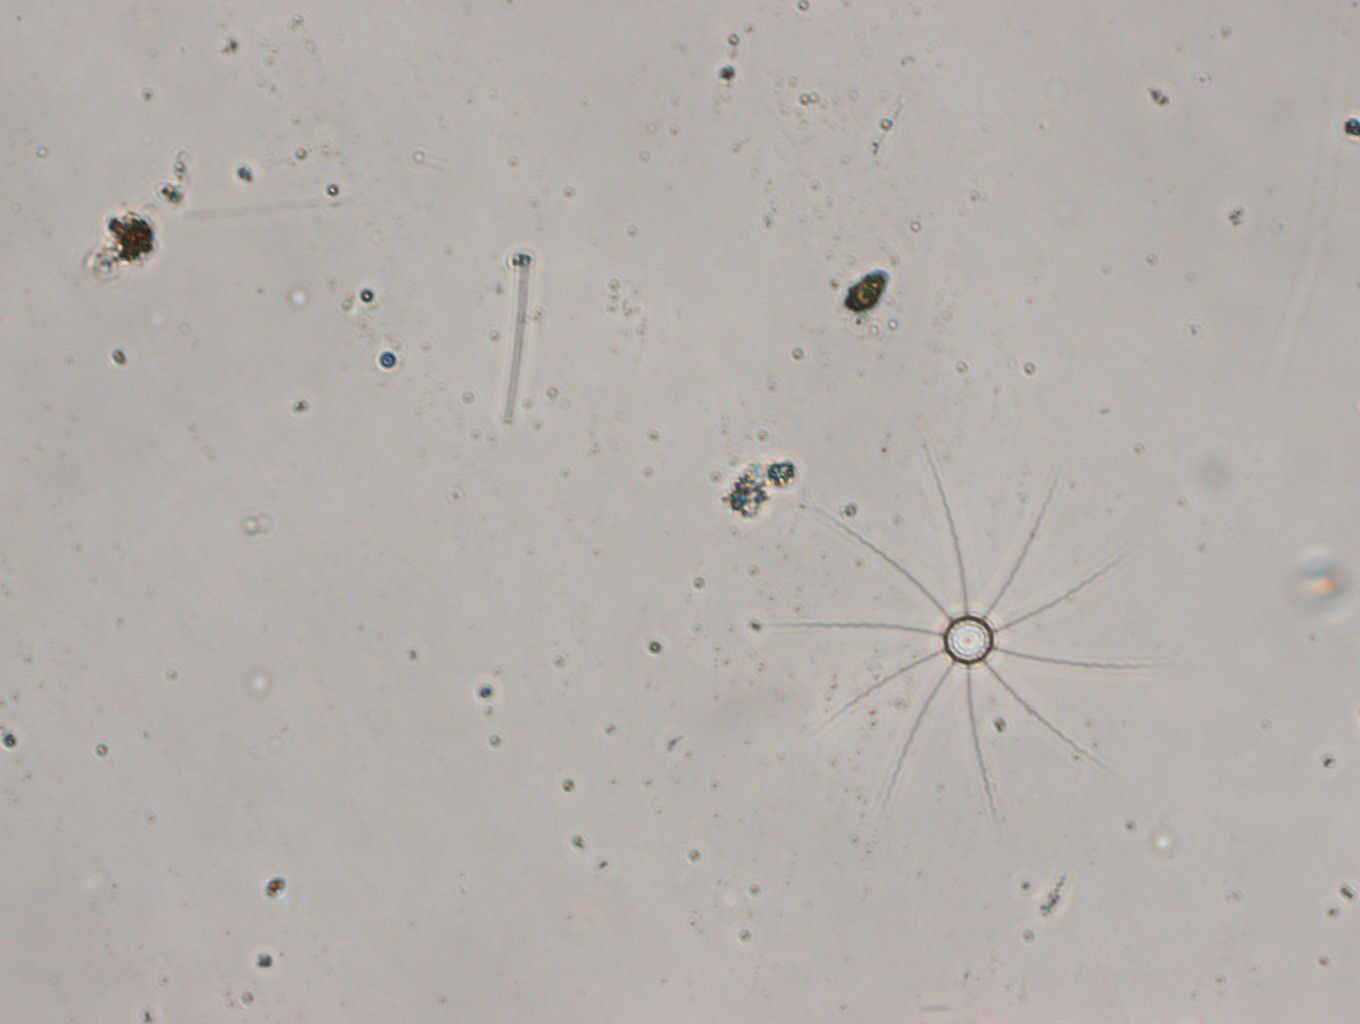bacteriastrum: (804, 449, 1154, 807)
